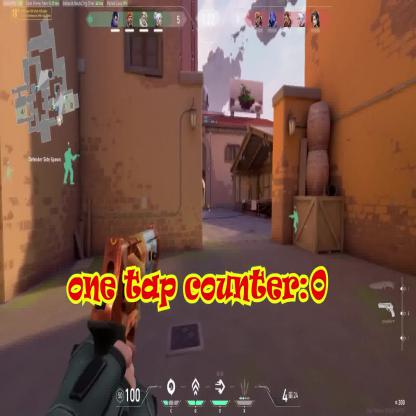enemy: (199, 179, 204, 206)
